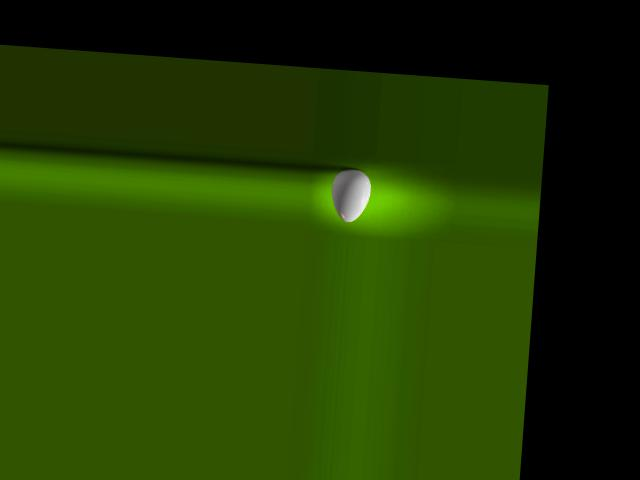egg: (329, 167, 372, 224)
